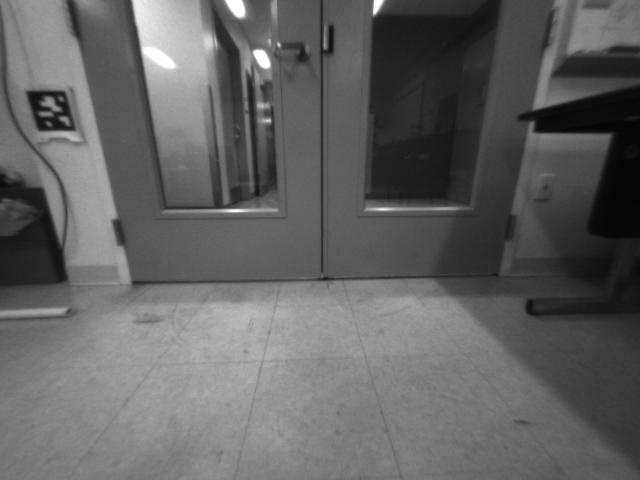door_handle: (264, 34, 311, 63)
